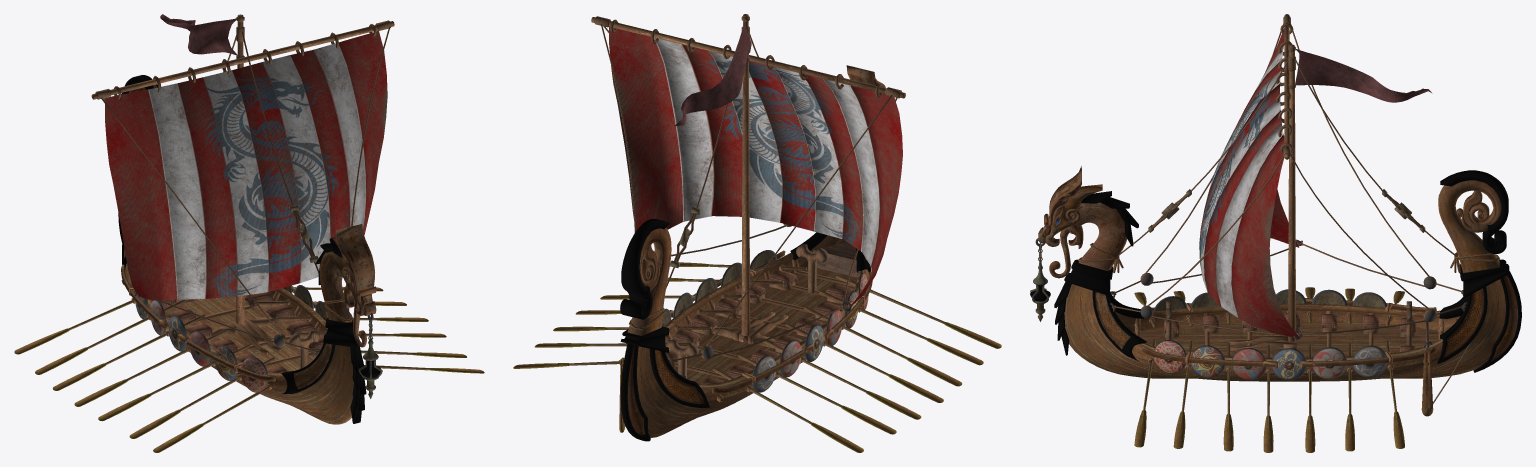
The model's file is Viking Drakkar LongBoat Low-poly 3D model.obj.
The picture shows the model from 3 angles, left to right: view 1: azimuth 30°, elevation 25°; view 2: azimuth 150°, elevation 25°; view 3: azimuth 270°, elevation 25°; orthographic projection. The views are drawn at different scales.
Parts seen in each view (by area): view 1: desirefx_me_251, desirefx_me_026, desirefx_me_025, desirefx_me_003, desirefx_me_257, desirefx_me_250, desirefx_me_011, desirefx_me_028, desirefx_me_019, desirefx_me_169, desirefx_me_173, desirefx_me_090 (+3 smaller); view 2: desirefx_me_251, desirefx_me_026, desirefx_me_025, desirefx_me_059, desirefx_me_248, desirefx_me_060, desirefx_me_250, desirefx_me_053, desirefx_me_041, desirefx_me_257, desirefx_me_267, desirefx_me_042 (+7 smaller); view 3: desirefx_me_251, desirefx_me_026, desirefx_me_025, desirefx_me_059, desirefx_me_250, desirefx_me_011, desirefx_me_248, desirefx_me_038, desirefx_me_060, desirefx_me_053, desirefx_me_027, desirefx_me_019 (+14 smaller).
Part boxes in pixels (x1,y1,x2,y2): desirefx_me_251: (105,31,387,300); desirefx_me_026: (124,263,353,424); desirefx_me_025: (165,295,316,371); desirefx_me_003: (335,224,376,296); desirefx_me_257: (91,21,394,99); desirefx_me_250: (160,14,237,55); desirefx_me_011: (319,251,352,322); desirefx_me_028: (281,343,335,393); desirefx_me_019: (323,318,358,347); desirefx_me_169: (241,356,268,392); desirefx_me_173: (179,338,276,381); desirefx_me_090: (101,97,281,334); desirefx_me_251: (609,26,902,311); desirefx_me_026: (637,235,869,438); desirefx_me_025: (665,268,857,384); desirefx_me_059: (627,228,671,335); desirefx_me_248: (741,14,750,335); desirefx_me_060: (620,219,669,319); desirefx_me_250: (674,20,751,126); desirefx_me_053: (620,343,650,441); desirefx_me_041: (649,349,709,408); desirefx_me_257: (591,17,905,98); desirefx_me_267: (813,242,857,277); desirefx_me_042: (620,326,669,352); desirefx_me_251: (1199,28,1299,337); desirefx_me_026: (1064,279,1505,381); desirefx_me_025: (1133,320,1444,357); desirefx_me_059: (1438,180,1501,272); desirefx_me_250: (1295,49,1432,102); desirefx_me_011: (1065,202,1127,270); desirefx_me_248: (1288,44,1295,341); desirefx_me_038: (1437,286,1487,363); desirefx_me_060: (1440,170,1508,254); desirefx_me_053: (1473,271,1521,372); desirefx_me_027: (1092,291,1146,361); desirefx_me_019: (1064,259,1112,294).
Size of the model in its own units: 52.09 by 51.05 by 65.47.
